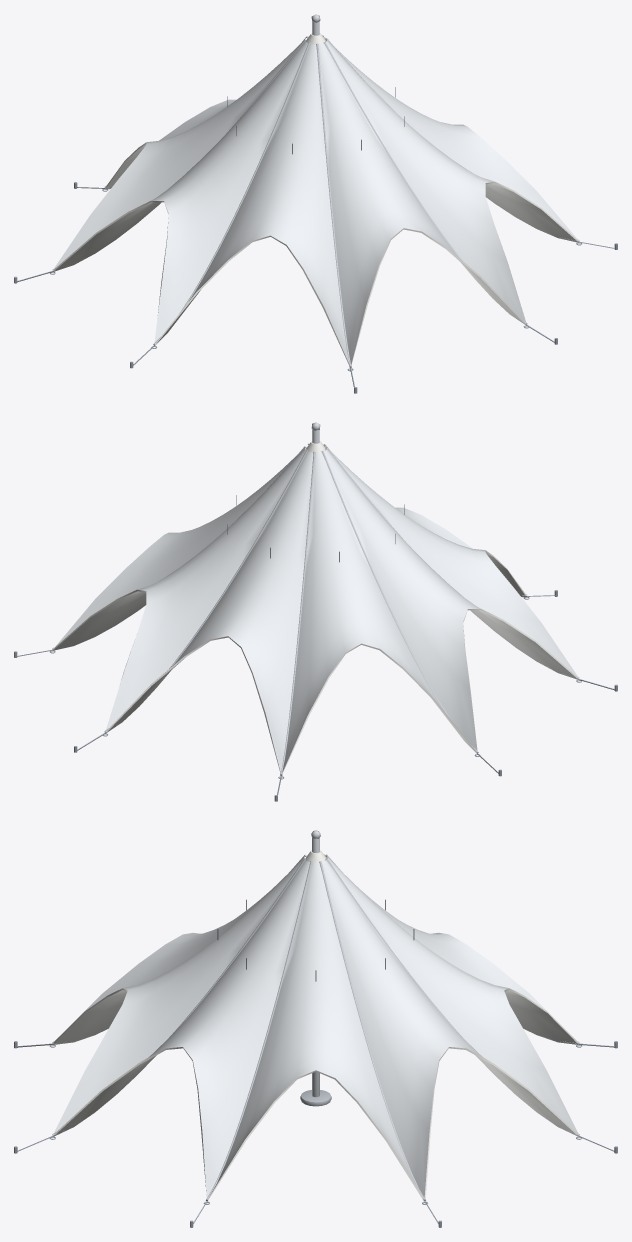
File: tenda_lona_estrela.glb
3 views of the same model, one above another, from view 1: azimuth 30°, elevation 25°; view 2: azimuth 150°, elevation 25°; view 3: azimuth 270°, elevation 25° (orthographic). The views are drawn at different scales.
Visible parts, largest first — view 1: tenda_lona_estrela; view 2: tenda_lona_estrela; view 3: tenda_lona_estrela.
Part boxes in pixels (x1,y1,x2,y2): tenda_lona_estrela: (14, 14, 617, 393); tenda_lona_estrela: (14, 422, 617, 801); tenda_lona_estrela: (14, 830, 617, 1227).
Size of the model in its own units: 13.56 by 6.7 by 13.57.
2 materials, 1 textured.
